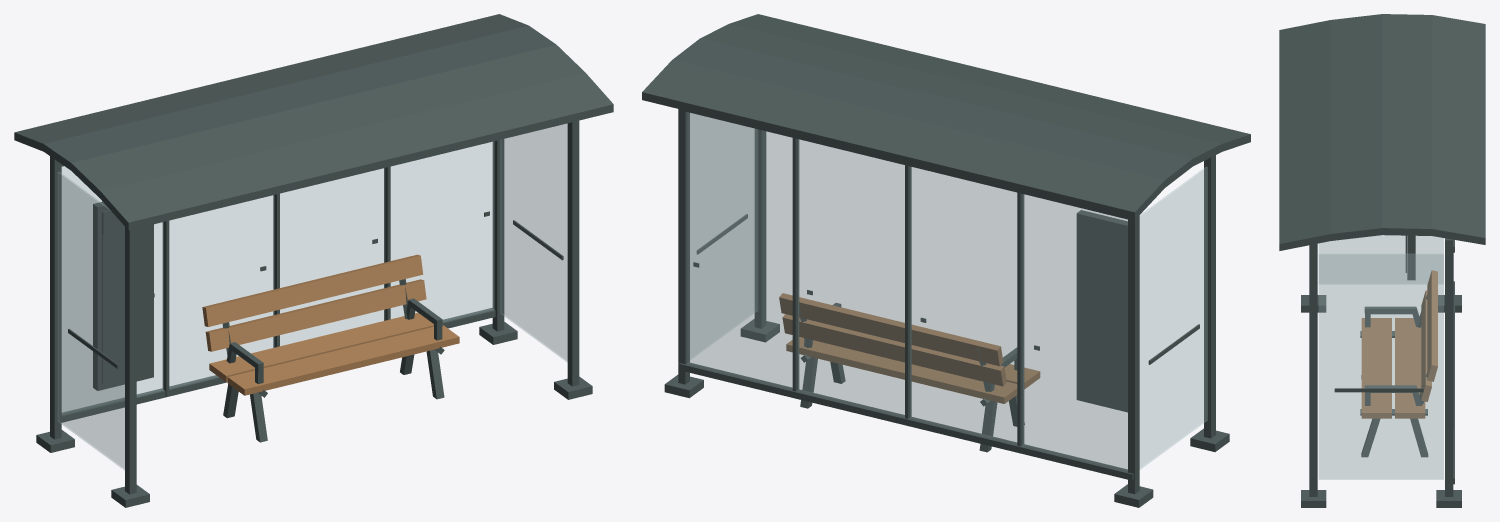
Rendered from transit-shelter.lod1.glb.
The picture shows the model from 3 angles, left to right: view 1: azimuth 30°, elevation 25°; view 2: azimuth 150°, elevation 25°; view 3: azimuth 270°, elevation 25°; orthographic projection. The views are drawn at different scales.
Parts seen in each view (by area): view 1: metal, glass, wood; view 2: glass, metal, wood; view 3: metal, glass, wood.
Part boxes in pixels (x1=…): metal: x1=14, y1=14, x2=613, y2=507; glass: x1=58, y1=124, x2=567, y2=470; wood: x1=202, y1=254, x2=459, y2=395; glass: x1=687, y1=112, x2=1207, y2=470; metal: x1=642, y1=14, x2=1250, y2=507; wood: x1=779, y1=293, x2=1040, y2=403; metal: x1=1279, y1=14, x2=1485, y2=507; glass: x1=1318, y1=235, x2=1443, y2=479; wood: x1=1361, y1=270, x2=1437, y2=418.
Bounding box in the file's own units: 4.56 × 2.82 × 1.86.
